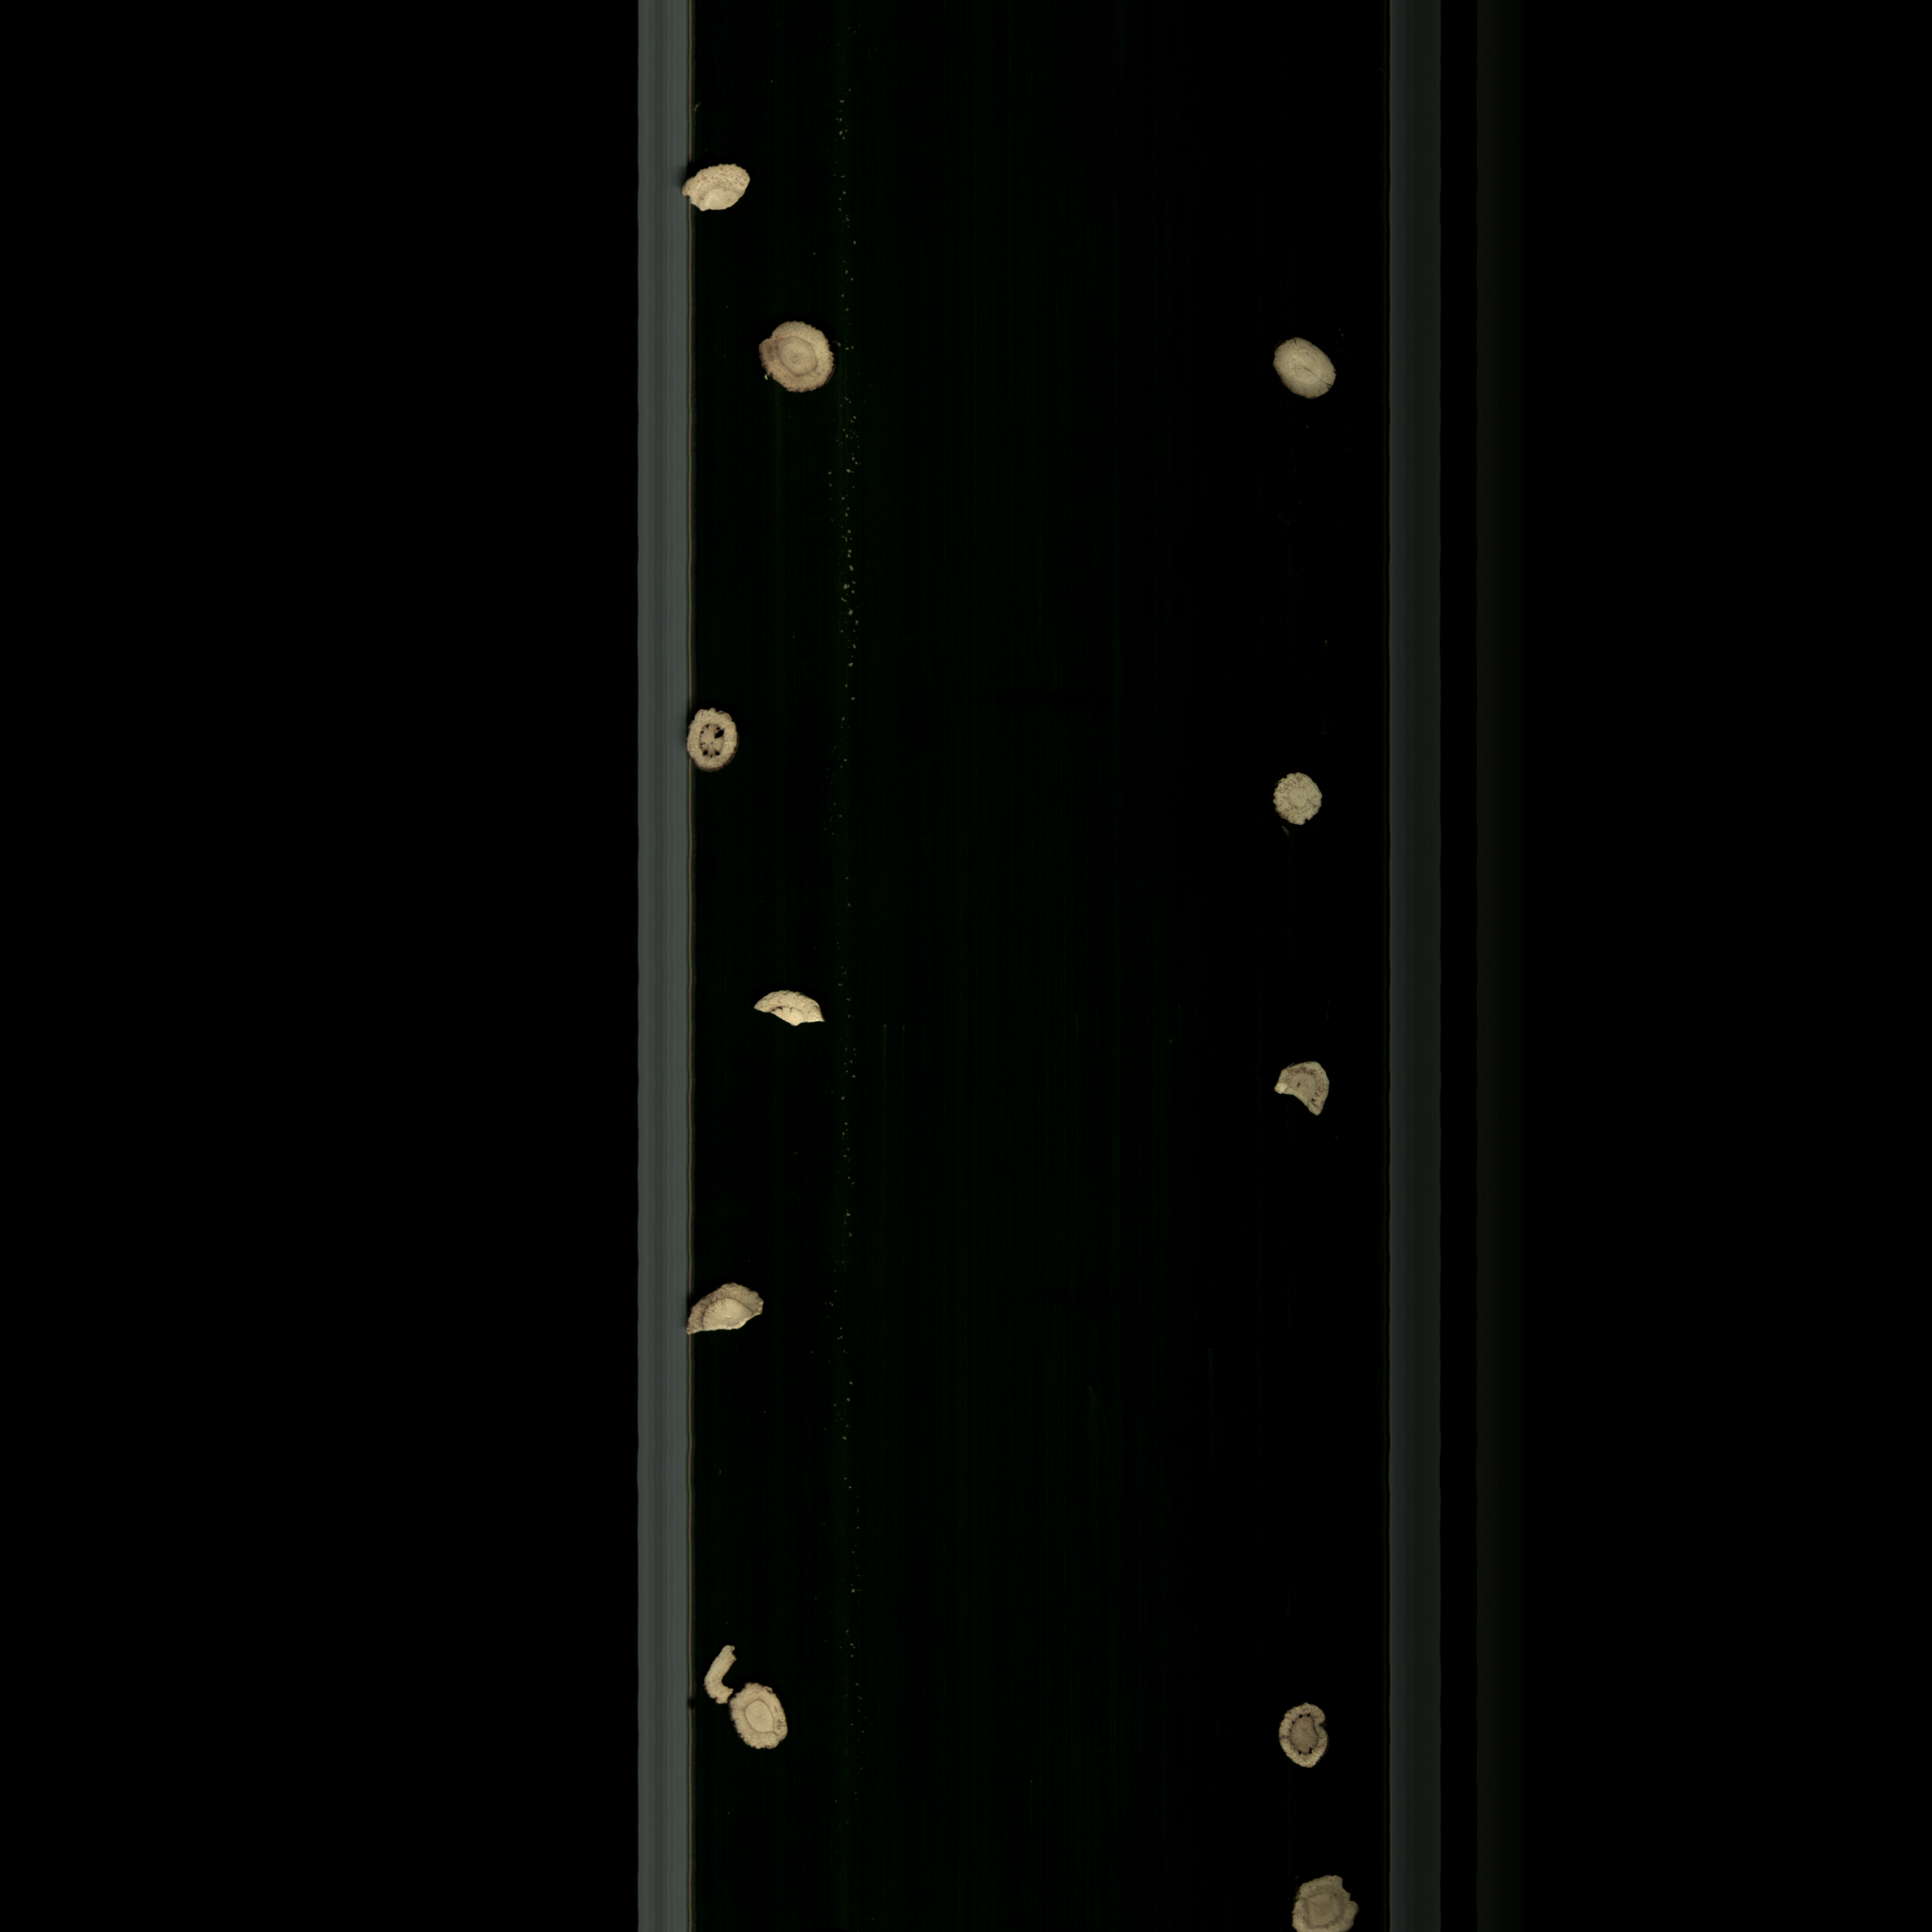debris: (741, 987, 835, 1042), (679, 161, 755, 223)
distortion: (1269, 326, 1348, 409), (729, 1683, 800, 1759), (1272, 766, 1334, 844)
dreg: (694, 1637, 743, 1706)
moldy: (745, 317, 844, 410), (683, 1277, 784, 1350), (1283, 1867, 1362, 1932), (1267, 1698, 1332, 1776), (683, 699, 745, 780), (1274, 1053, 1338, 1129)
